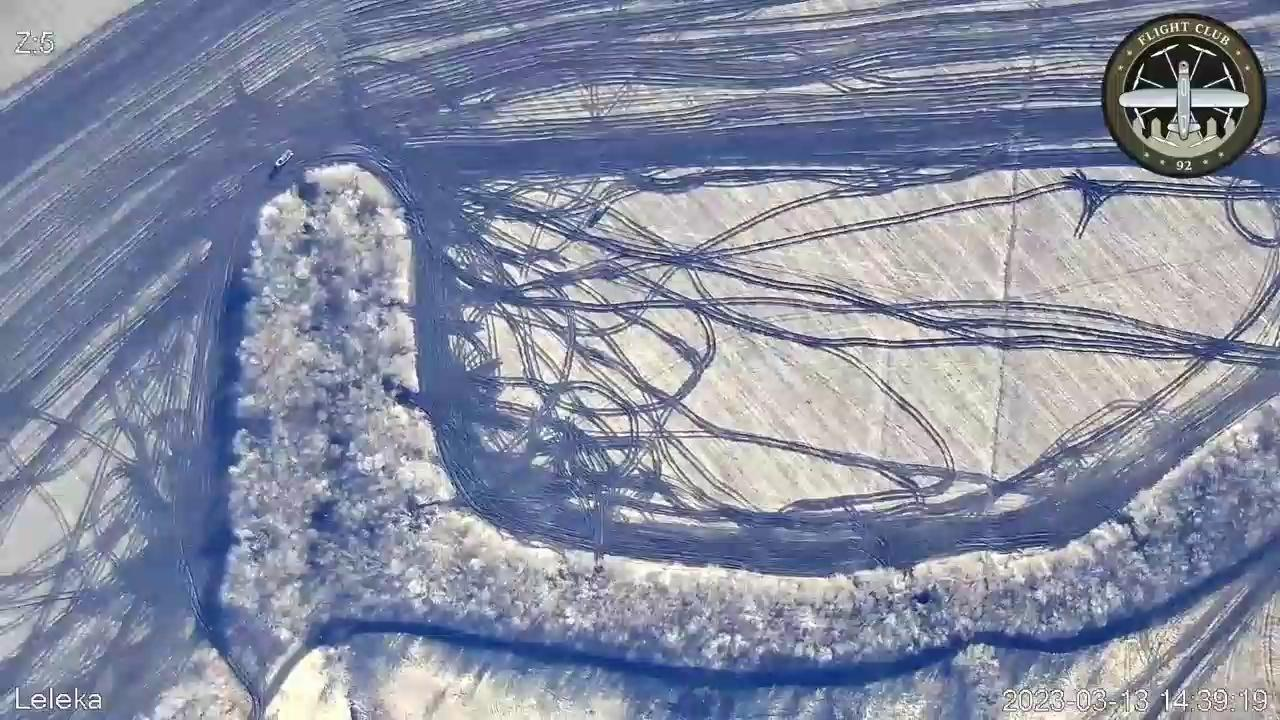vehicle: (274, 148, 296, 168)
